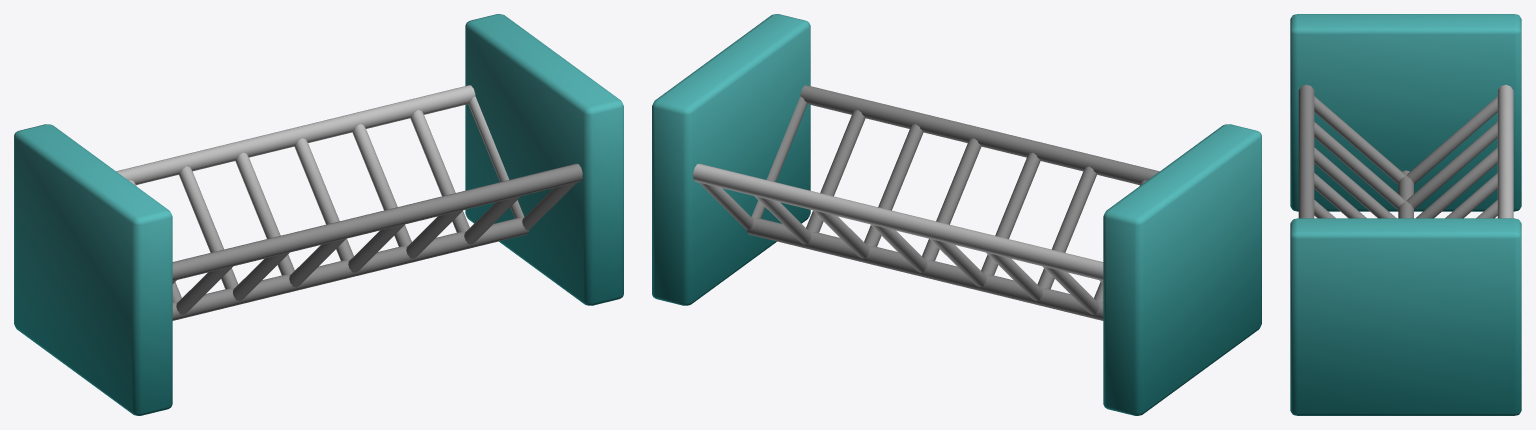
File: Dish Rack_3.fbx
3 views of the same model, side by side, from view 1: azimuth 30°, elevation 25°; view 2: azimuth 150°, elevation 25°; view 3: azimuth 270°, elevation 25° (orthographic). The views are drawn at different scales.
Visible parts, largest first — view 1: Dish Rack_3; view 2: Dish Rack_3; view 3: Dish Rack_3.
Part boxes in pixels (x1,y1,x2,y2): Dish Rack_3: (14,14,623,415); Dish Rack_3: (652,14,1261,415); Dish Rack_3: (1290,14,1521,415).
Bounding box in the file's own units: 0.701 × 0.2707 × 0.3086.
